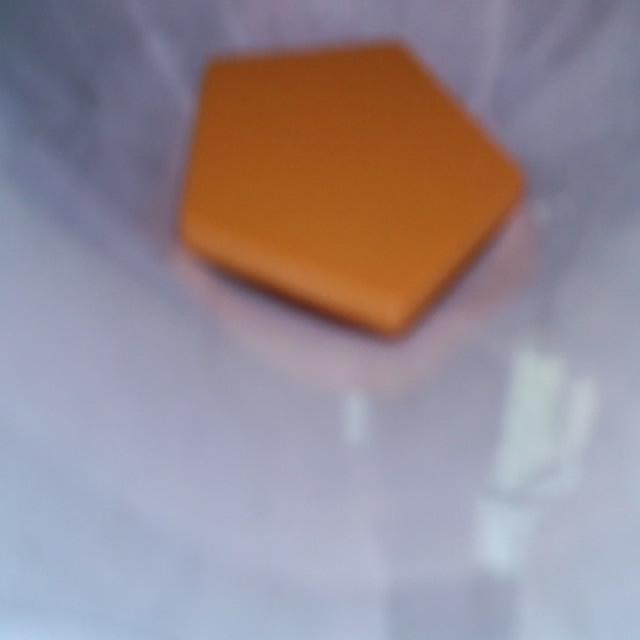pentagon: (181, 45, 521, 327)
